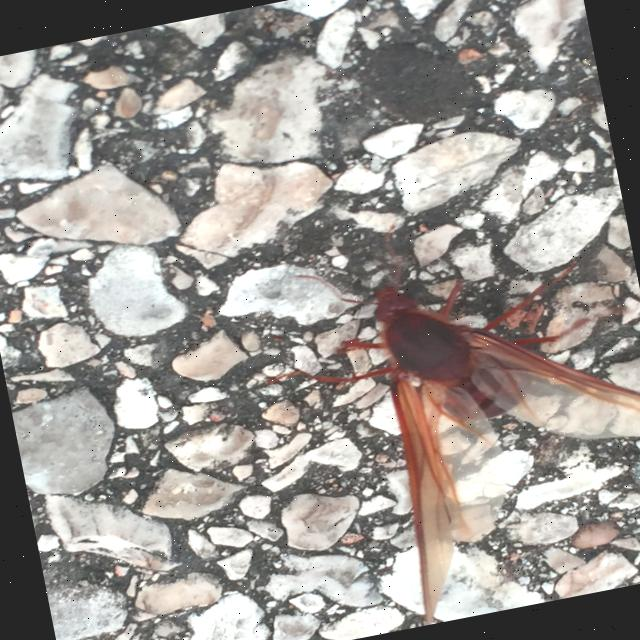Alive-Male-Alate: (240, 177, 640, 640)
